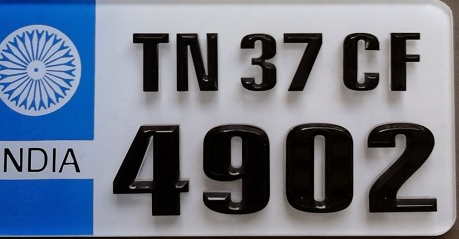0: (284, 121, 355, 214)
2: (365, 122, 441, 213)
3: (237, 32, 280, 91)
4: (112, 124, 191, 216)
7: (282, 31, 325, 92)
9: (199, 124, 272, 214)
C: (342, 32, 382, 93)
F: (388, 32, 421, 94)
N: (175, 32, 222, 92)
T: (130, 31, 170, 93)
